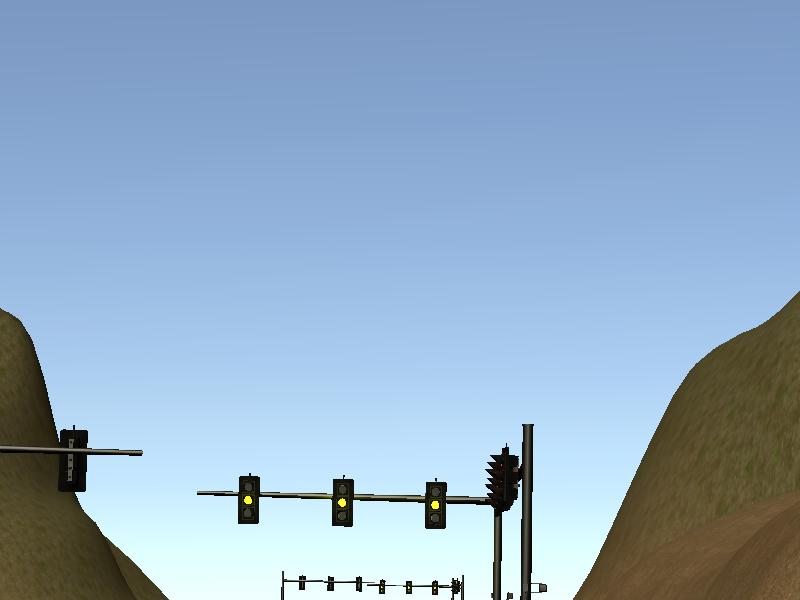yellow: (237, 474, 261, 525), (331, 477, 355, 528), (423, 478, 447, 529)
